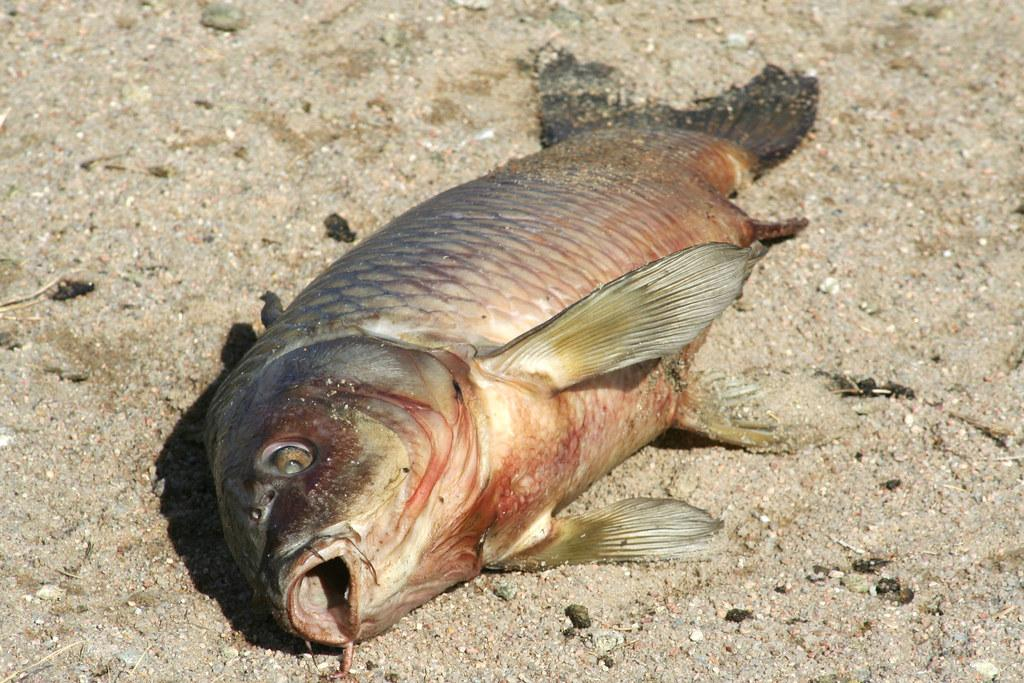Fish: (201, 39, 832, 660)
